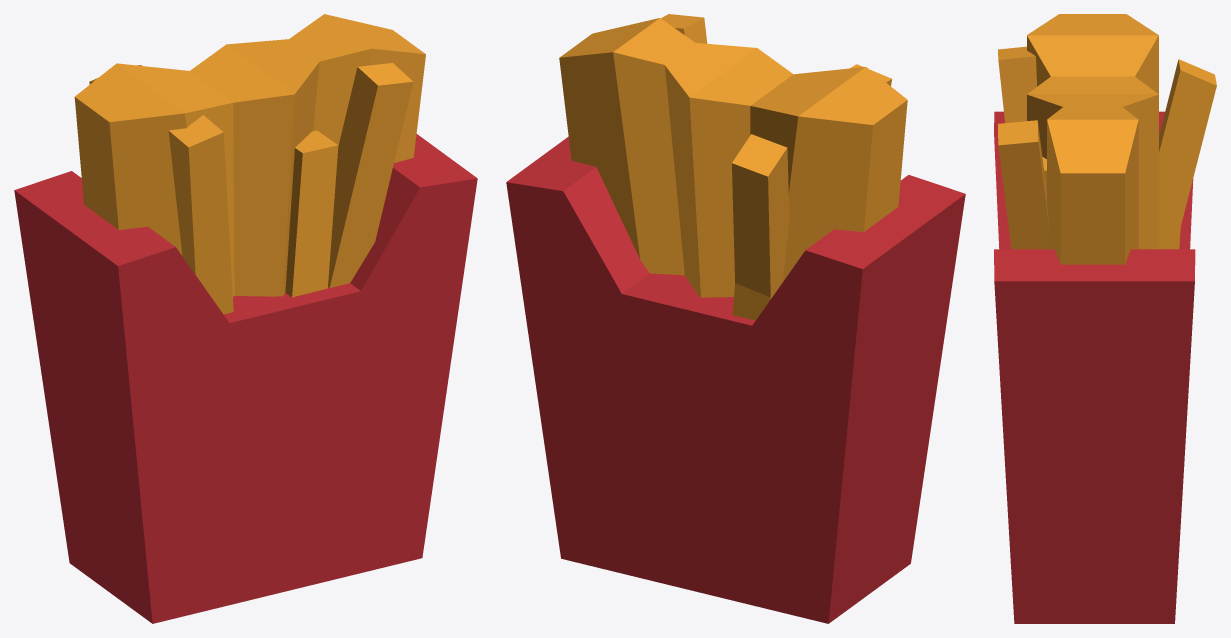
The model's file is food_fries.fbx.
3 views of the same model, side by side, from view 1: azimuth 30°, elevation 25°; view 2: azimuth 150°, elevation 25°; view 3: azimuth 270°, elevation 25° (orthographic). The views are drawn at different scales.
Parts seen in each view (by area): view 1: food_fries; view 2: food_fries; view 3: food_fries.
Part boxes in pixels (box(x1,y1,x2,y2)): food_fries: box(14, 14, 477, 623); food_fries: box(506, 14, 965, 623); food_fries: box(994, 14, 1216, 623).
Size of the model in its own units: 149 by 200 by 82.72.
